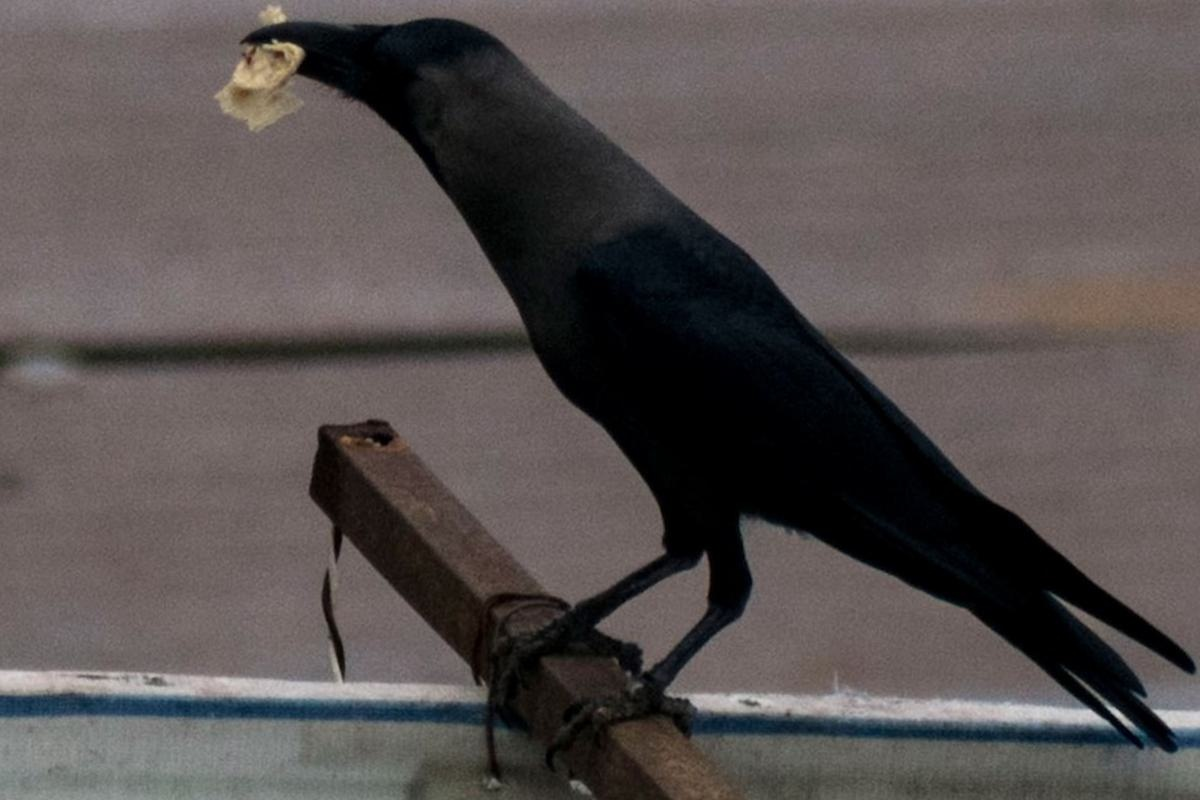crow: (239, 12, 1176, 730)
